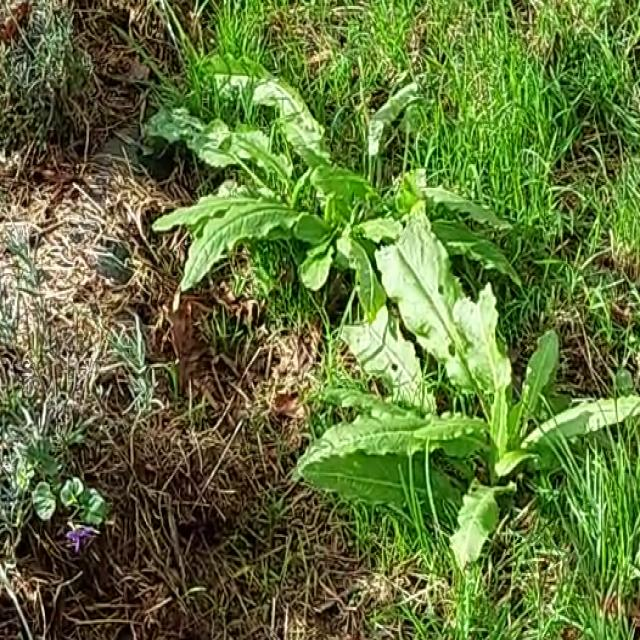organic waste: (322, 206, 636, 549), (152, 40, 488, 352)
